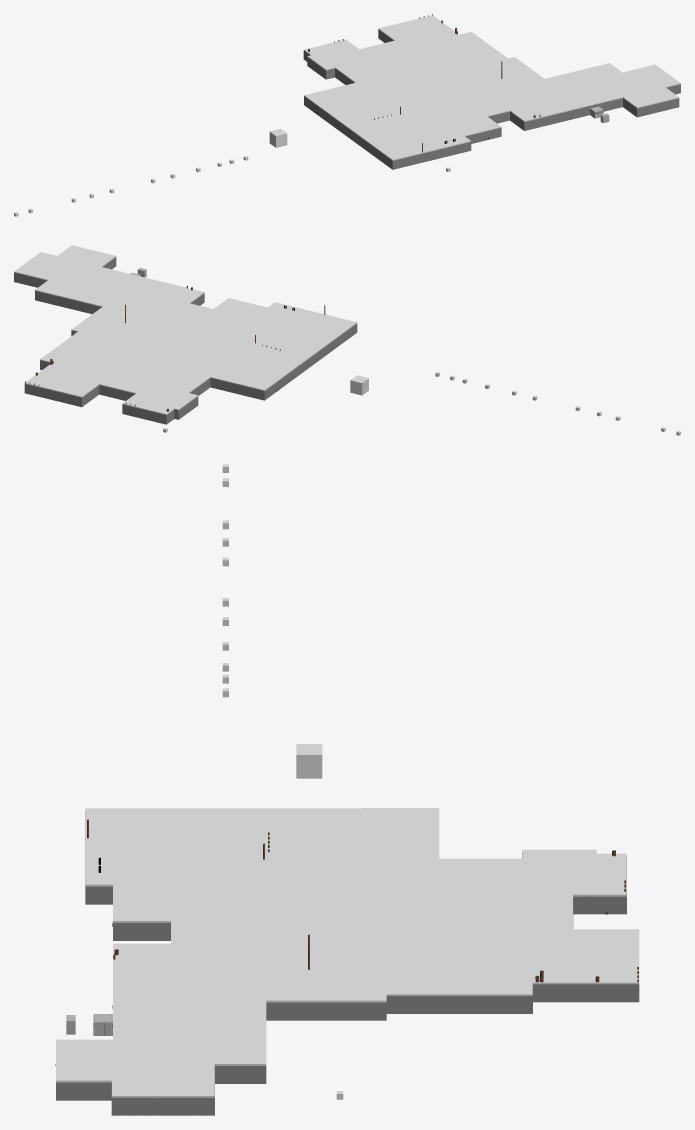
Rendered from Basement map.fbx.
The picture shows the model from 3 angles, top to bottom: view 1: azimuth 30°, elevation 25°; view 2: azimuth 150°, elevation 25°; view 3: azimuth 270°, elevation 25°; orthographic projection. The views are drawn at different scales.
Visible parts, largest first — view 1: Ceiling, Room; view 2: Ceiling, Room, Cube; view 3: Ceiling, Room.
Boxes of the visible parts, x1,y1,x2,y2 form: Ceiling: (304,15,680,160); Room: (303,29,680,169); Ceiling: (14,245,357,415); Room: (14,257,357,424); Cube: (350,375,368,395); Ceiling: (56,808,639,1097); Room: (56,810,639,1115).
Size of the model in its own units: 44622 by 6956 by 17687.
109 materials, 105 textured.
